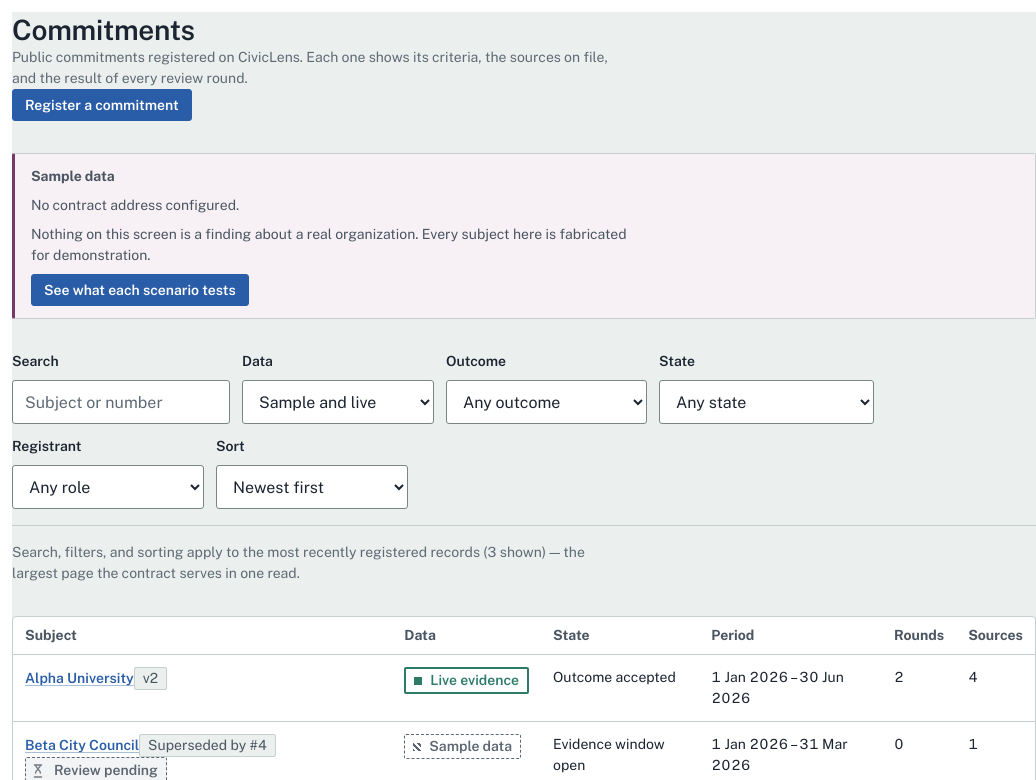
browse search, filter, and sort › filters by registrant role
This screenshot has width=1036, height=780.
expect the link "Alpha University" is shown: met, box [25,670,134,686]
Select "Observer" in the dropdown labelled "Registrant": (108, 487) [12,465,204,509]
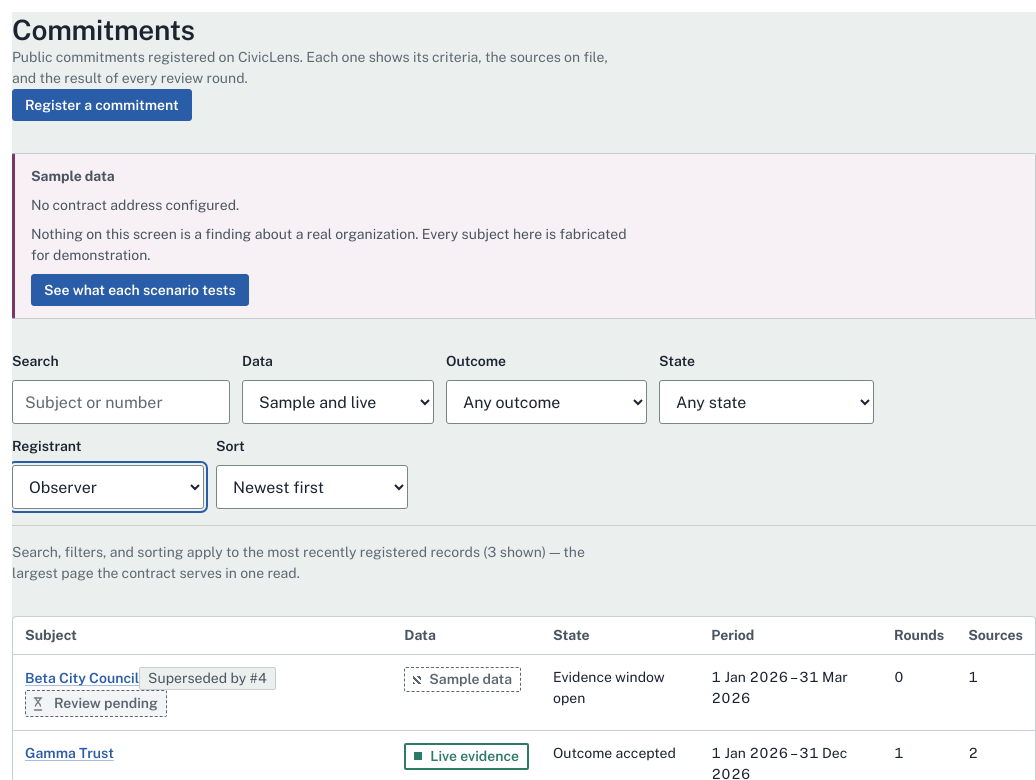
expect the link "Beta City Council" is shown: met, box [25,670,139,686]
expect the link "Alpha University" is gone: met
